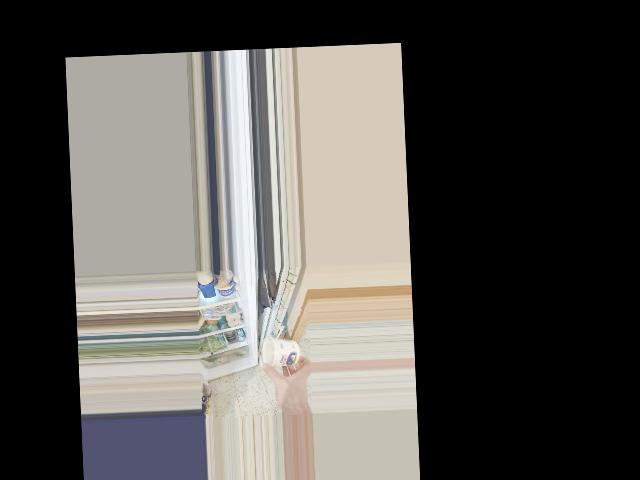cotage: (258, 333, 304, 375)
